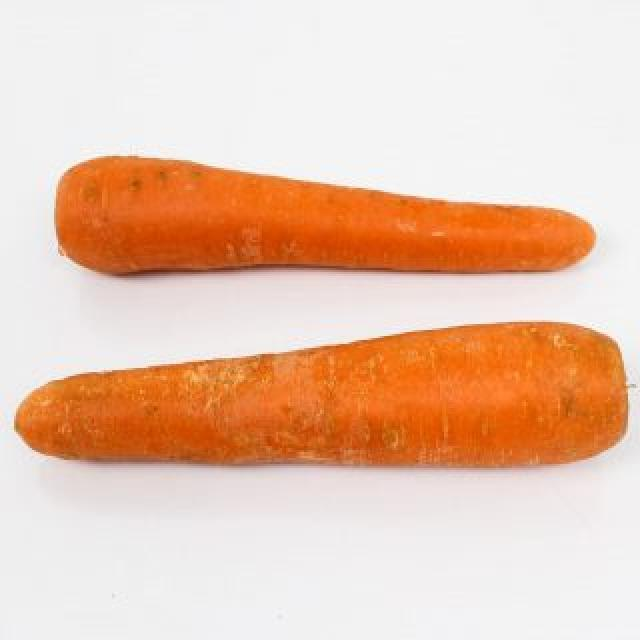Carrot: (11, 319, 632, 473), (54, 156, 602, 281)
